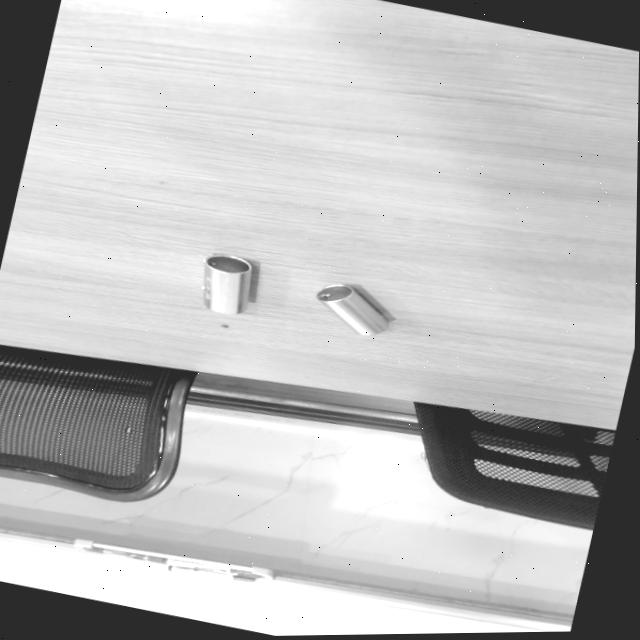Co_Lon: (201, 253, 252, 315)
Co_Nho: (314, 272, 393, 345)
